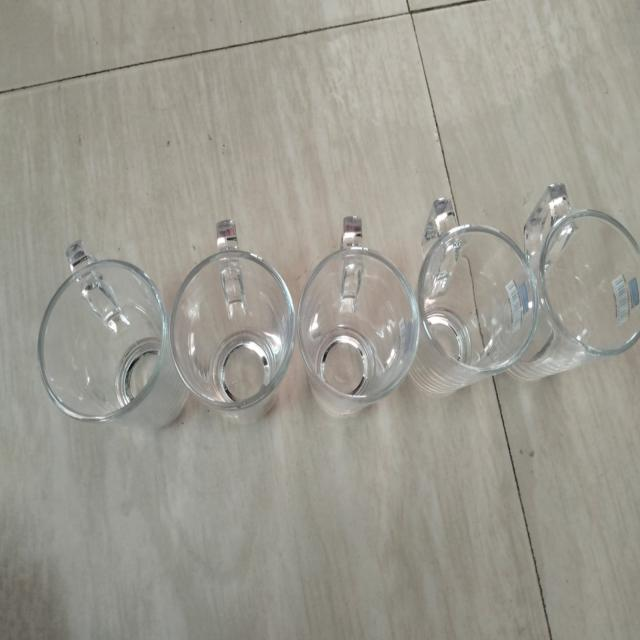glass-VX4N: (167, 213, 299, 431), (40, 236, 172, 437), (300, 212, 421, 418), (525, 184, 640, 386), (428, 192, 538, 392)
